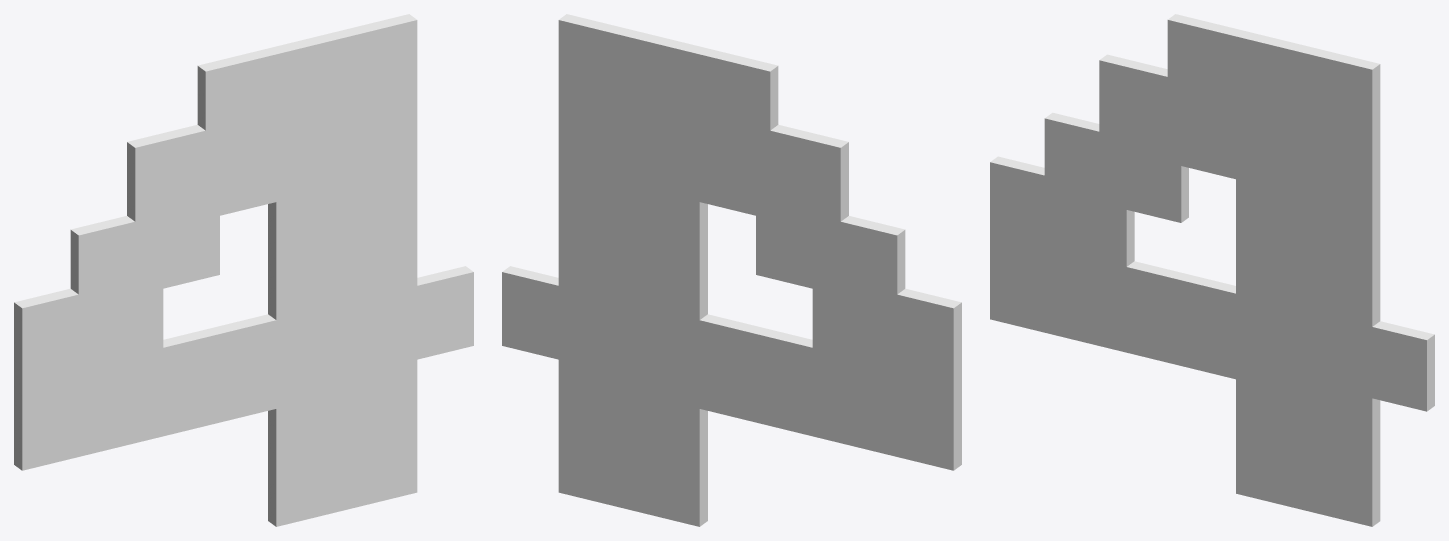
3 views of the same model, side by side, from view 1: azimuth 30°, elevation 25°; view 2: azimuth 150°, elevation 25°; view 3: azimuth 330°, elevation 25° (orthographic). The views are drawn at different scales.
Visible parts, largest first — view 1: ch_4_32; view 2: ch_4_32; view 3: ch_4_32.
Part boxes in pixels (x1,y1,x2,y2): ch_4_32: [14, 14, 473, 526]; ch_4_32: [502, 14, 961, 526]; ch_4_32: [990, 14, 1434, 526].
Bounding box in the file's own units: 32 × 32 × 1.
1 material, 1 textured.
